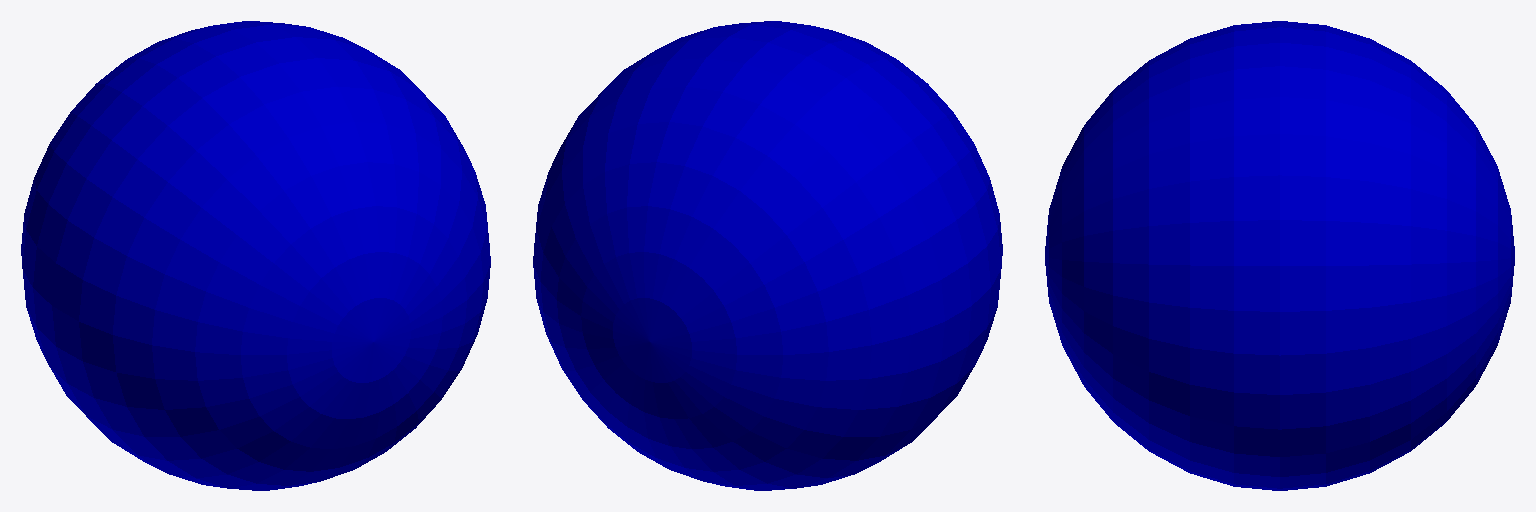
File: blue.obj
3 views of the same model, side by side, from view 1: azimuth 30°, elevation 25°; view 2: azimuth 150°, elevation 25°; view 3: azimuth 270°, elevation 25° (orthographic).
Visible parts, largest first — view 1: blue_Sphere.014; view 2: blue_Sphere.014; view 3: blue_Sphere.014.
Part boxes in pixels (x1,y1,x2,y2): blue_Sphere.014: (21, 21, 490, 490); blue_Sphere.014: (533, 21, 1002, 490); blue_Sphere.014: (1045, 21, 1514, 490).
Size of the model in its own units: 2 by 2 by 2.